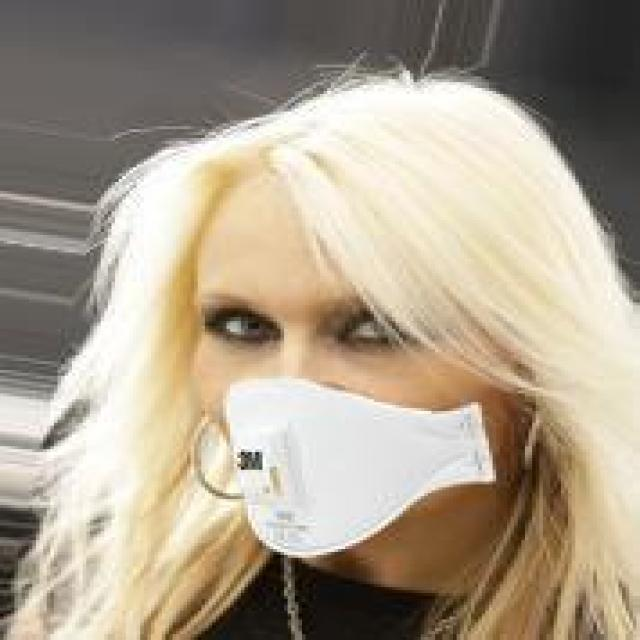mask: (158, 65, 572, 584)
